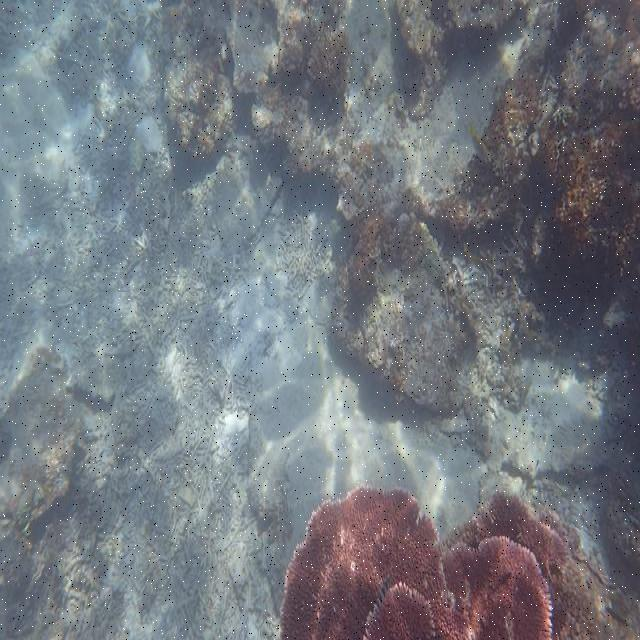reefs: (280, 484, 598, 639)
sea-floor: (162, 3, 639, 412)
